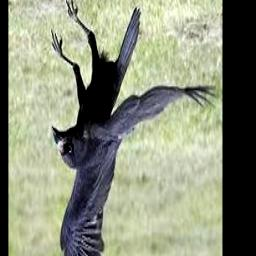Crow: (51, 0, 216, 256)
